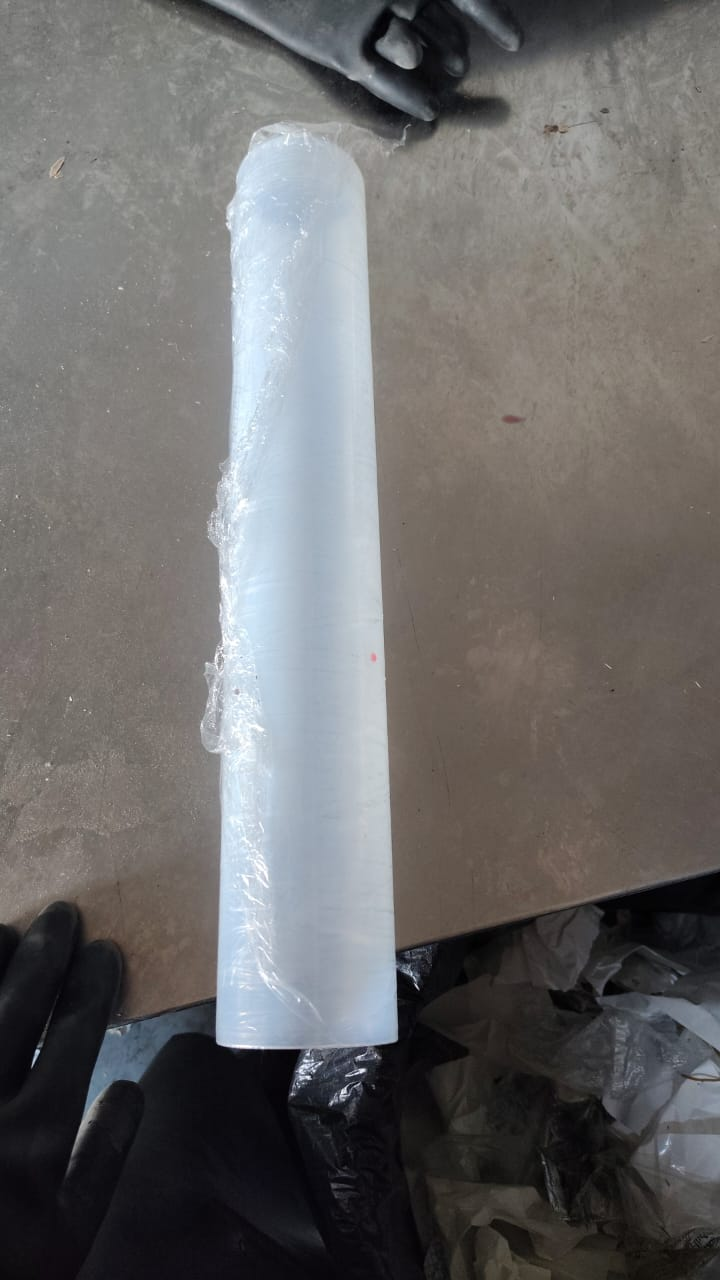Plastico: (198, 123, 405, 1050)
